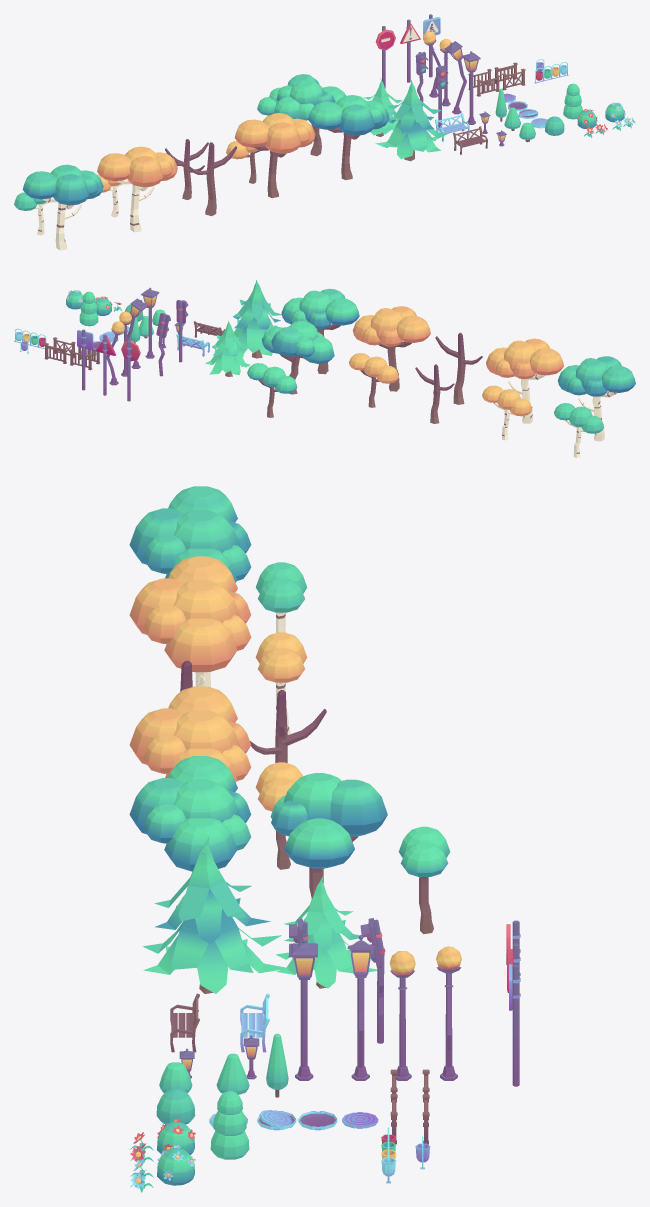
Rendered from low_poly_assets.glb.
3 views of the same model, one above another, from view 1: azimuth 30°, elevation 25°; view 2: azimuth 150°, elevation 25°; view 3: azimuth 270°, elevation 25° (orthographic). The views are drawn at different scales.
Parts seen in each view (by area): view 1: Birch_9, Birch.001_11, tree.002_1, tree.001_2, Spruce_0, tree.003_7, tree_3, small tree.001_8, small pruce_6, small birch_12, bush.006_28, Lantern_32 (+9 smaller); view 2: Birch.001_11, Birch_9, tree.001_2, tree.002_1, tree.003_7, Spruce_0, small pruce_6, small birch.001_10, small birch_12, small tree.002_5, small tree_4, tree_3 (+17 smaller); view 3: Birch_9, tree.002_1, Spruce_0, tree.003_7, Birch.001_11, tree.001_2, small pruce_6, small tree_4, small birch_12, small birch.001_10, bush.006_28, small tree.002_5 (+12 smaller).
Boxes of the visible parts, bbox=[...] form: Birch_9: bbox=[97, 146, 177, 232]; Birch.001_11: bbox=[22, 164, 103, 250]; tree.002_1: bbox=[308, 95, 389, 179]; tree.001_2: bbox=[234, 113, 315, 198]; Spruce_0: bbox=[375, 79, 448, 161]; tree.003_7: bbox=[274, 74, 345, 156]; tree_3: bbox=[188, 142, 237, 216]; small tree.001_8: bbox=[165, 139, 208, 199]; small pruce_6: bbox=[363, 78, 402, 136]; small birch_12: bbox=[14, 192, 48, 235]; bush.006_28: bbox=[563, 83, 582, 119]; Lantern_32: bbox=[461, 51, 480, 124]; Birch.001_11: bbox=[557, 356, 635, 441]; Birch_9: bbox=[486, 338, 563, 423]; tree.001_2: bbox=[352, 306, 430, 391]; tree.002_1: bbox=[281, 288, 359, 374]; tree.003_7: bbox=[261, 321, 334, 394]; Spruce_0: bbox=[233, 280, 281, 358]; small pruce_6: bbox=[205, 320, 250, 376]; small birch.001_10: bbox=[482, 385, 532, 440]; small birch_12: bbox=[554, 403, 603, 457]; small tree.002_5: bbox=[349, 353, 398, 407]; small tree_4: bbox=[247, 363, 297, 417]; tree_3: bbox=[435, 332, 482, 404]; Birch_9: bbox=[129, 556, 251, 687]; tree.002_1: bbox=[129, 756, 251, 871]; Spruce_0: bbox=[142, 836, 289, 993]; tree.003_7: bbox=[270, 773, 387, 898]; Birch.001_11: bbox=[129, 486, 251, 582]; tree.001_2: bbox=[129, 686, 251, 782]; small pruce_6: bbox=[276, 876, 377, 988]; small tree_4: bbox=[398, 826, 450, 934]; small birch_12: bbox=[255, 562, 307, 632]; small birch.001_10: bbox=[255, 632, 307, 734]; bush.006_28: bbox=[210, 1091, 249, 1159]; small tree.002_5: bbox=[255, 762, 302, 869].
Size of the model in its own units: 120 by 16.31 by 35.24.
2 materials, 2 textured.
